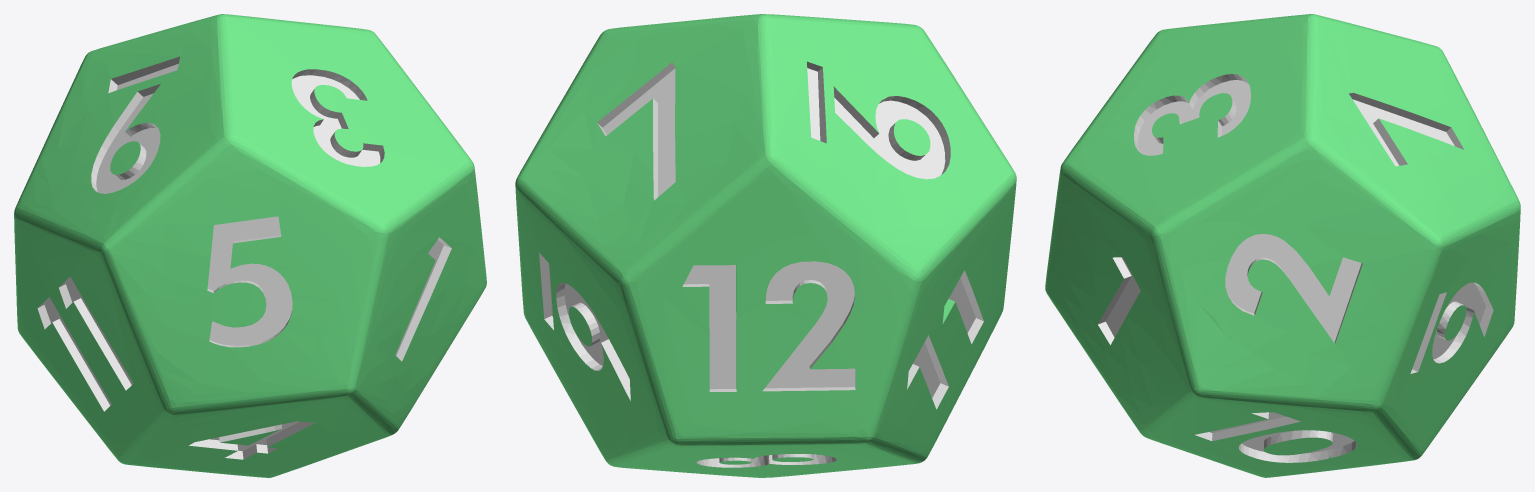
The picture shows the model from 3 angles, left to right: view 1: azimuth 30°, elevation 25°; view 2: azimuth 150°, elevation 25°; view 3: azimuth 270°, elevation 25°; orthographic projection. The views are drawn at different scales.
Visible parts, largest first — view 1: D12 Base; view 2: D12 Base; view 3: D12 Base.
Part boxes in pixels (<box>): D12 Base: <box>14,14,486,477</box>; D12 Base: <box>515,14,1016,477</box>; D12 Base: <box>1045,14,1520,477</box>.
Bounding box in the file's own units: 37.47 × 41.91 × 40.12.
